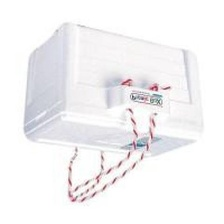foam_box: (15, 18, 210, 208)
